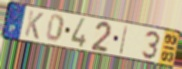0: (46, 13, 67, 44)
2: (90, 21, 113, 55)
3: (140, 30, 161, 60)
4: (69, 17, 88, 50)
I: (118, 25, 130, 56)
K: (23, 9, 45, 41)
